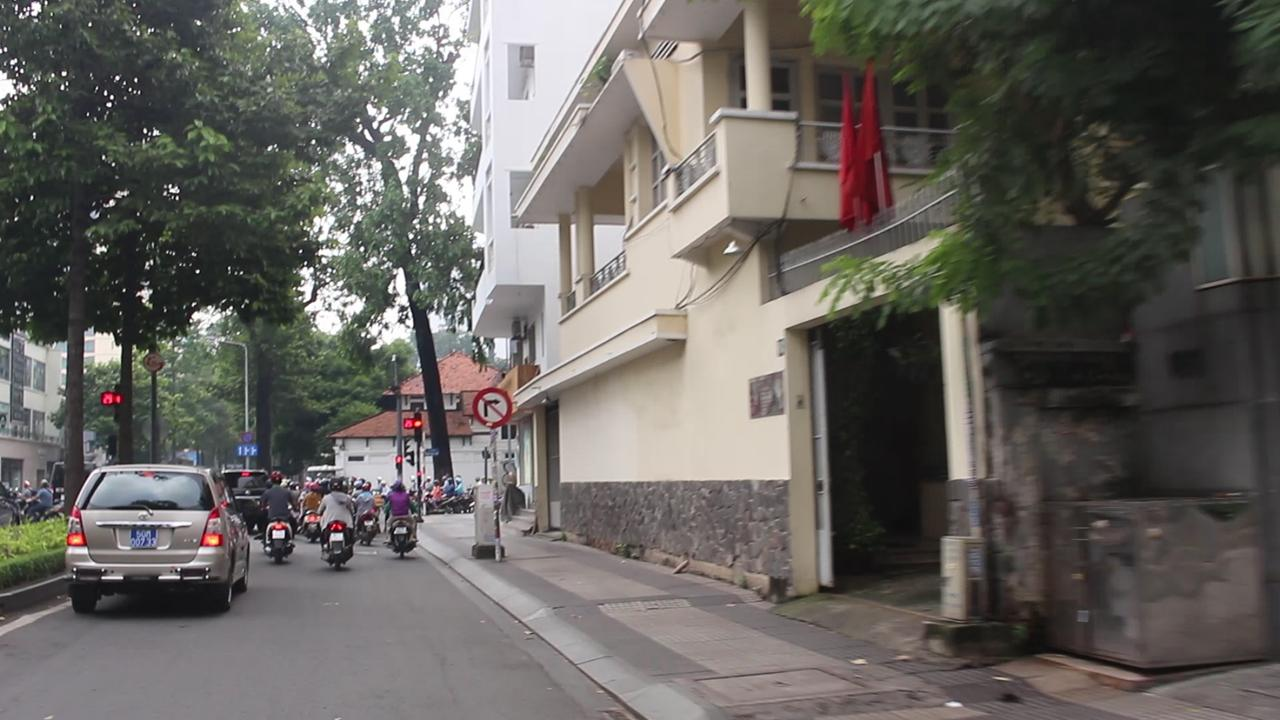P.112: (468, 384, 516, 436)
